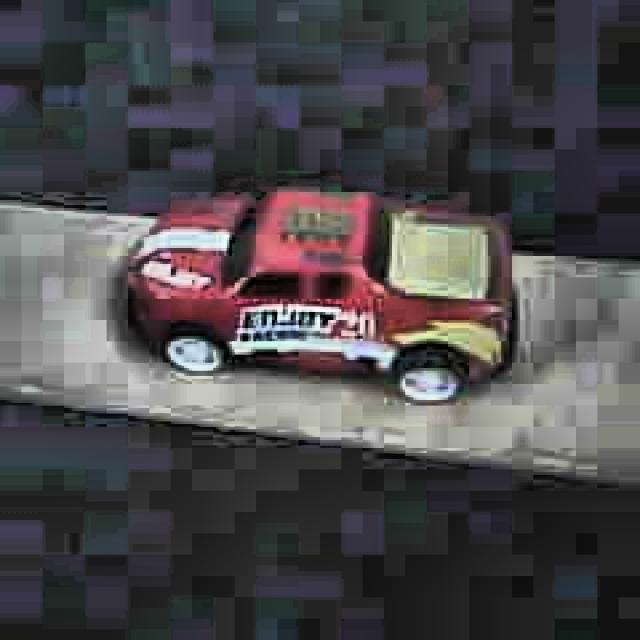car: (121, 182, 522, 408)
